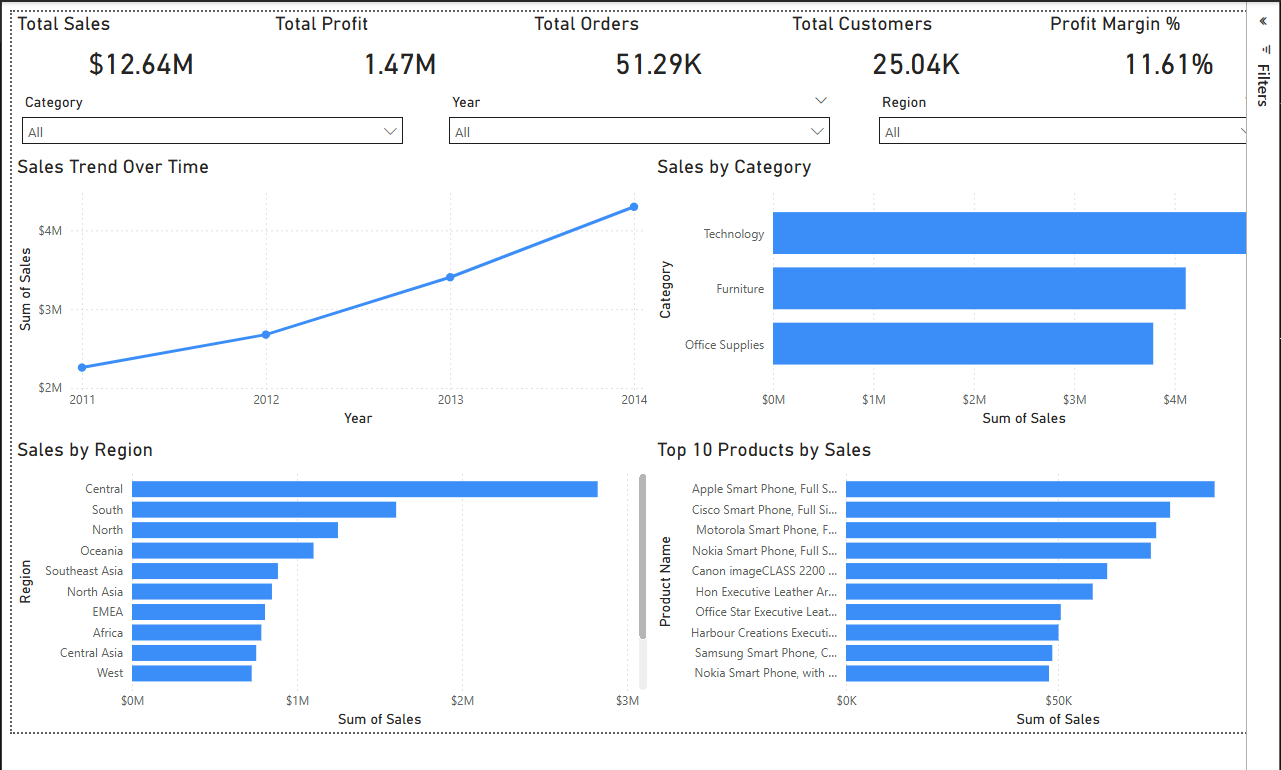

Layout of this report page (visuals, bound fields, positions):
{"tool":"powerbi","page":{"name":"Executive Overview","canvas":[1280,720],"ordinal":0},"visuals":[{"type":"card","title":"Total Sales","fields":{"Values":["Sum(cleaned_sales_data.Sales)"]},"box":[0,0,258.3,77.2],"z":0},{"type":"card","title":"Profit Margin %","fields":{"Values":["cleaned_sales_data.Profit Margin Measure"]},"box":[1033.1,0,246.9,77.2],"z":1000},{"type":"card","title":"Total Customers","fields":{"Values":["Count(cleaned_sales_data.Order ID)"]},"box":[774.8,0,258.3,77.2],"z":2000},{"type":"card","title":"Total Orders","fields":{"Values":["CountNonNull(cleaned_sales_data.Order ID)"]},"box":[516.5,0,258.3,77.2],"z":3000},{"type":"card","title":"Total Profit","fields":{"Values":["Sum(cleaned_sales_data.Profit)"]},"box":[258.3,0,258.3,77.2],"z":4000},{"type":"lineChart","title":"Sales Trend Over Time","fields":{"Y":["Sum(cleaned_sales_data.Sales)"],"Category":["cleaned_sales_data.Order Date.Variation.Date Hierarchy.Year"]},"box":[0,143,640,275.8],"z":5000},{"type":"clusteredBarChart","title":"Sales by Category","fields":{"Category":["cleaned_sales_data.Category"],"Y":["Sum(cleaned_sales_data.Sales)"]},"box":[640,143,640,275.8],"z":6000},{"type":"clusteredBarChart","title":"Sales by Region","fields":{"Category":["cleaned_sales_data.Region"],"Y":["Sum(cleaned_sales_data.Sales)"]},"box":[0,426,640,294.3],"z":7000},{"type":"clusteredBarChart","title":"Top 10 Products by Sales","fields":{"Category":["cleaned_sales_data.Product Name"],"Y":["Sum(cleaned_sales_data.Sales)"]},"box":[640,426,640,294.3],"z":8000},{"type":"slicer","fields":{"Values":["cleaned_sales_data.Category"]},"box":[0,77.2,401.3,65.9],"z":8001},{"type":"slicer","fields":{"Values":["cleaned_sales_data.Region"]},"box":[857.1,77.2,401.3,65.9],"z":8002},{"type":"slicer","fields":{"Values":["cleaned_sales_data.Year"]},"box":[427,77.2,401.3,65.9],"z":8003}]}

Visuals, with their boxes on the page's 1280x720 design canvas (x1, y1, x2, y2). These are canvas units, not pixel positions in the 1281x770 screenshot, which may show the page scaled, cropped or inside an application window:
"Total Sales" card: (0, 0, 258, 77)
"Profit Margin %" card: (1033, 0, 1280, 77)
"Total Customers" card: (775, 0, 1033, 77)
"Total Orders" card: (516, 0, 775, 77)
"Total Profit" card: (258, 0, 517, 77)
"Sales Trend Over Time" lineChart: (0, 143, 640, 419)
"Sales by Category" clusteredBarChart: (640, 143, 1280, 419)
"Sales by Region" clusteredBarChart: (0, 426, 640, 720)
"Top 10 Products by Sales" clusteredBarChart: (640, 426, 1280, 720)
slicer - cleaned_sales_data.Category: (0, 77, 401, 143)
slicer - cleaned_sales_data.Region: (857, 77, 1258, 143)
slicer - cleaned_sales_data.Year: (427, 77, 828, 143)
